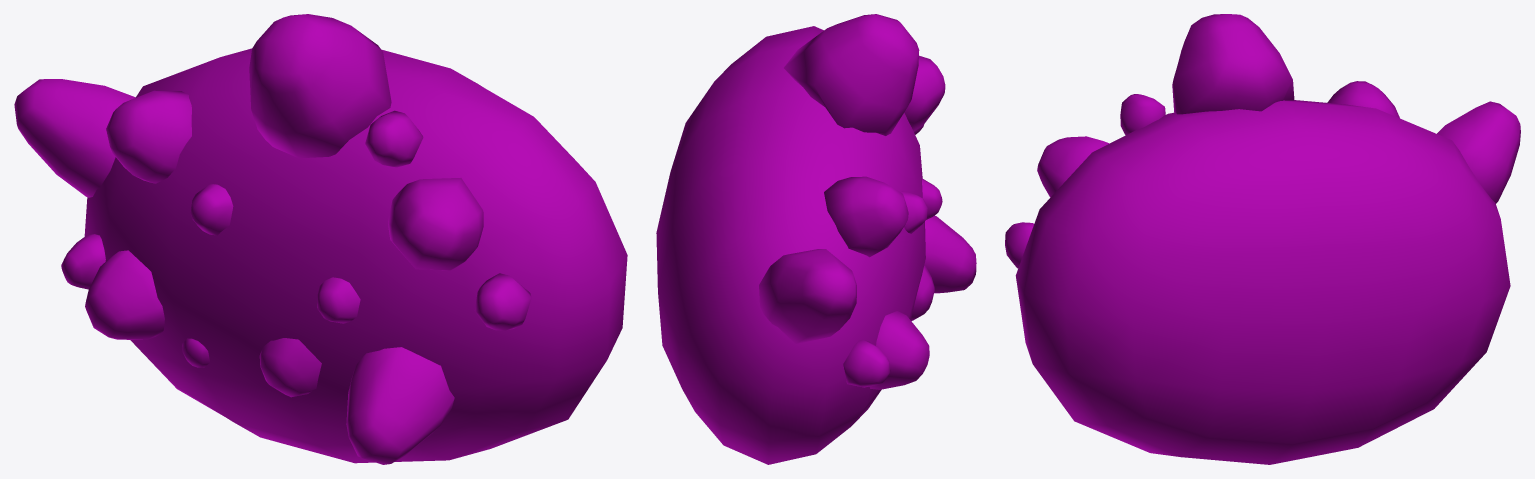
The model's file is Barnacles_2.fbx.
3 views of the same model, side by side, from view 1: azimuth 30°, elevation 25°; view 2: azimuth 150°, elevation 25°; view 3: azimuth 270°, elevation 25° (orthographic). The views are drawn at different scales.
Visible parts, largest first — view 1: Barnacle_Base1, Barnacle22, Barnacle2, Barnacle23, Barnacle14, Barnacle8, Barnacle11, Barnacle7, Barnacle26, Barnacle25, Barnacle28, Barnacle9 (+2 smaller); view 2: Barnacle_Base1, Barnacle22, Barnacle23, Barnacle8, Barnacle2, Barnacle11, Barnacle14, Barnacle28, Barnacle7, Barnacle9, Barnacle24; view 3: Barnacle_Base1, Barnacle22, Barnacle23, Barnacle14, Barnacle8, Barnacle25, Barnacle26.
Part boxes in pixels (left/top/right/bottom): Barnacle_Base1: left=84, top=48, right=627, bottom=463; Barnacle22: left=249, top=14, right=391, bottom=158; Barnacle2: left=346, top=347, right=454, bottom=464; Barnacle23: left=14, top=79, right=135, bottom=197; Barnacle14: left=388, top=178, right=483, bottom=270; Barnacle8: left=106, top=90, right=191, bottom=183; Barnacle11: left=85, top=250, right=164, bottom=339; Barnacle7: left=259, top=338, right=321, bottom=397; Barnacle26: left=474, top=273, right=531, bottom=330; Barnacle25: left=365, top=110, right=423, bottom=167; Barnacle28: left=61, top=234, right=105, bottom=289; Barnacle9: left=190, top=183, right=233, bottom=235; Barnacle_Base1: left=656, top=26, right=925, bottom=464; Barnacle22: left=784, top=14, right=919, bottom=135; Barnacle23: left=759, top=249, right=856, bottom=343; Barnacle8: left=824, top=176, right=908, bottom=257; Barnacle2: left=924, top=215, right=976, bottom=293; Barnacle11: left=870, top=311, right=929, bottom=389; Barnacle14: left=904, top=55, right=945, bottom=131; Barnacle28: left=843, top=339, right=890, bottom=387; Barnacle7: left=911, top=264, right=934, bottom=320; Barnacle9: left=901, top=191, right=927, bottom=233; Barnacle24: left=922, top=178, right=942, bottom=219; Barnacle_Base1: left=1015, top=100, right=1510, bottom=464; Barnacle22: left=1172, top=14, right=1294, bottom=114; Barnacle23: left=1437, top=101, right=1520, bottom=203; Barnacle14: left=1037, top=136, right=1109, bottom=197; Barnacle8: left=1327, top=81, right=1399, bottom=118; Barnacle25: left=1120, top=94, right=1165, bottom=135; Barnacle26: left=1005, top=222, right=1033, bottom=268.
Size of the model in its own units: 13.22 by 15.37 by 17.72.
